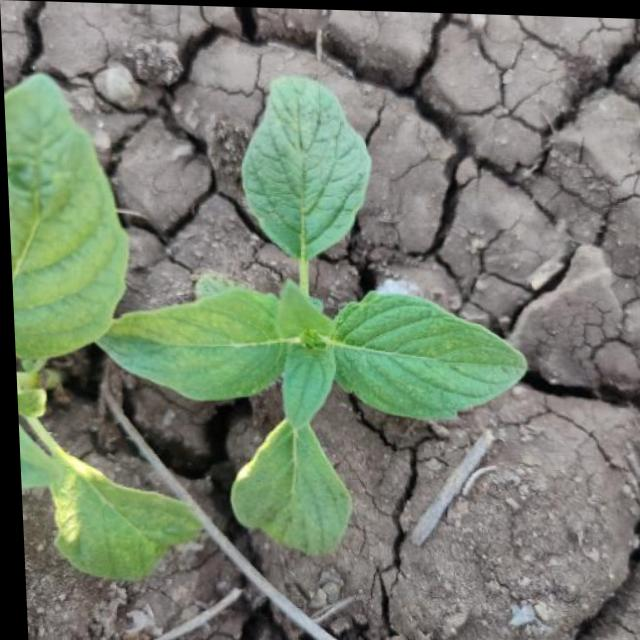crop: (67, 59, 534, 539)
